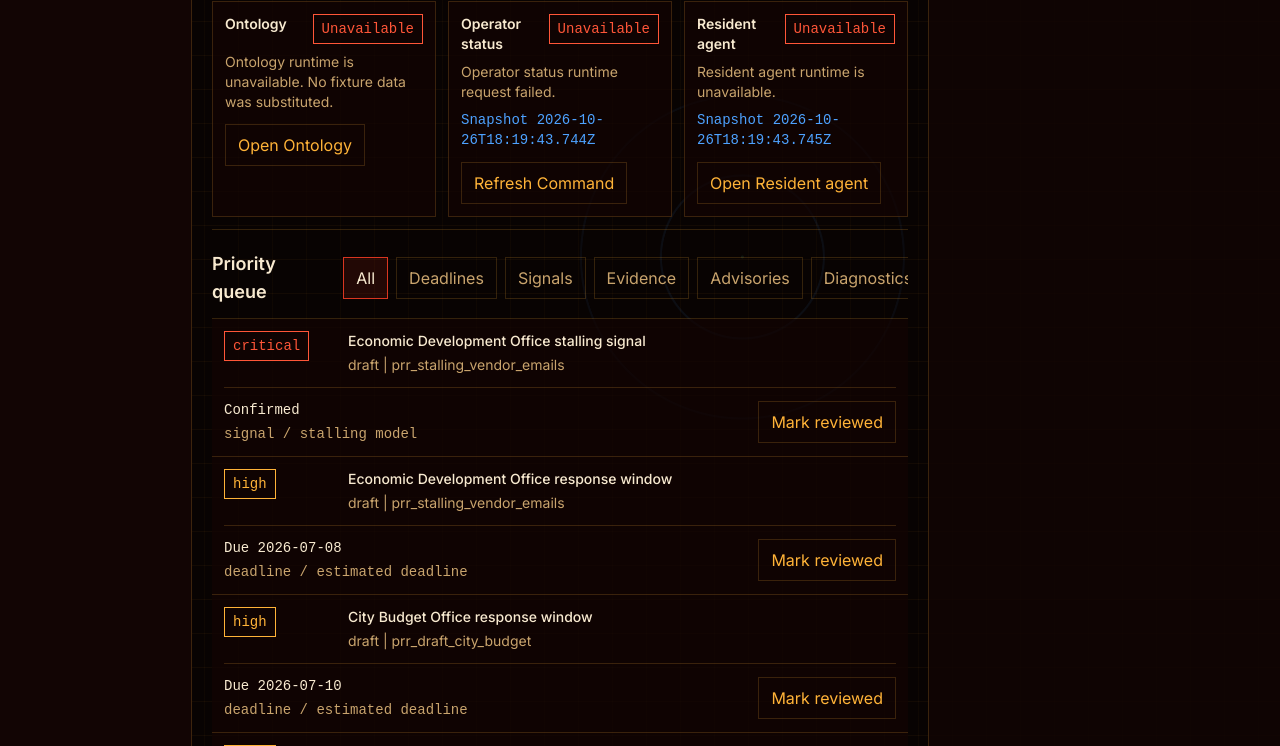
Test: right context rail › switches to selected runtime item detail and can return to the brief
The width and height of the screenshot is (1280, 746).
(page scrolled)
Click the button with aria-label "Select Economic Development Office stalling signal" at (497, 340), box [348, 331, 896, 375]
(page scrolled)
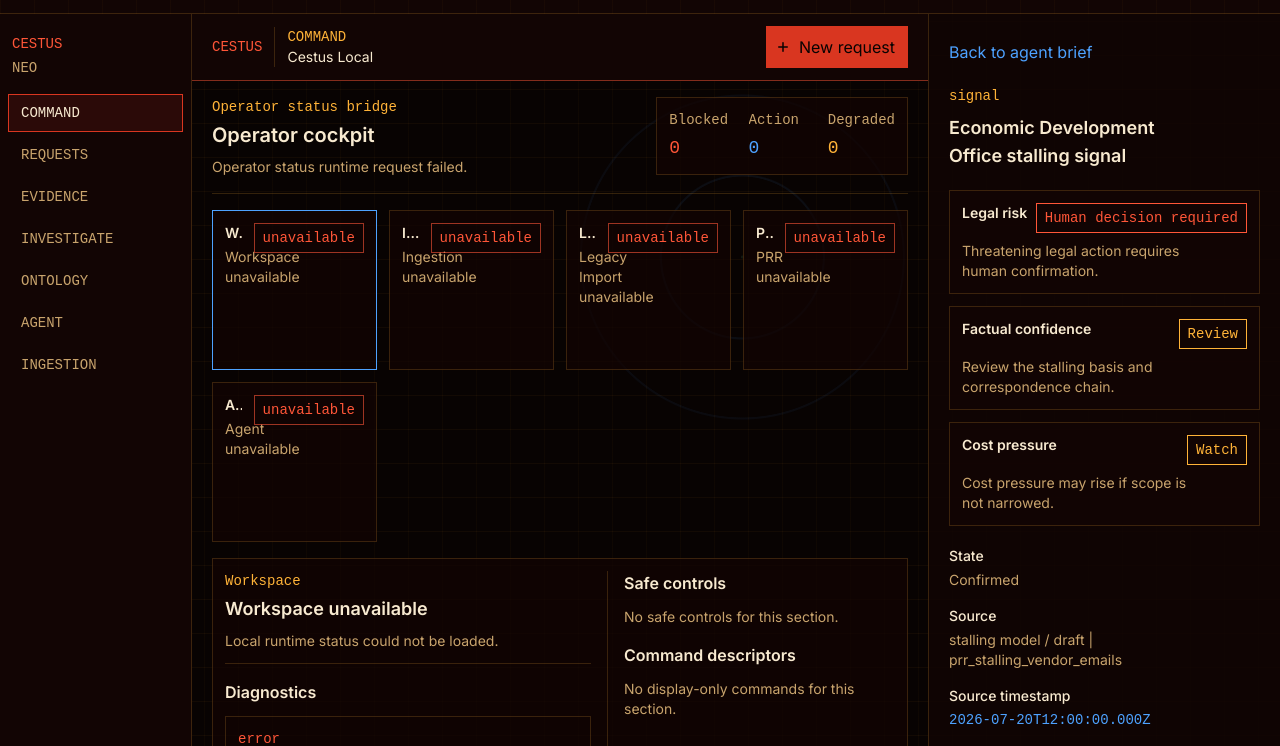
Check: the heading "Economic Development Office stalling signal" is shown, box [949, 117, 1155, 166]
Check: the text "Human decision required" is shown, box [1036, 203, 1247, 233]
Click the button "Back to agent brief" at (1021, 52), box [949, 34, 1092, 70]
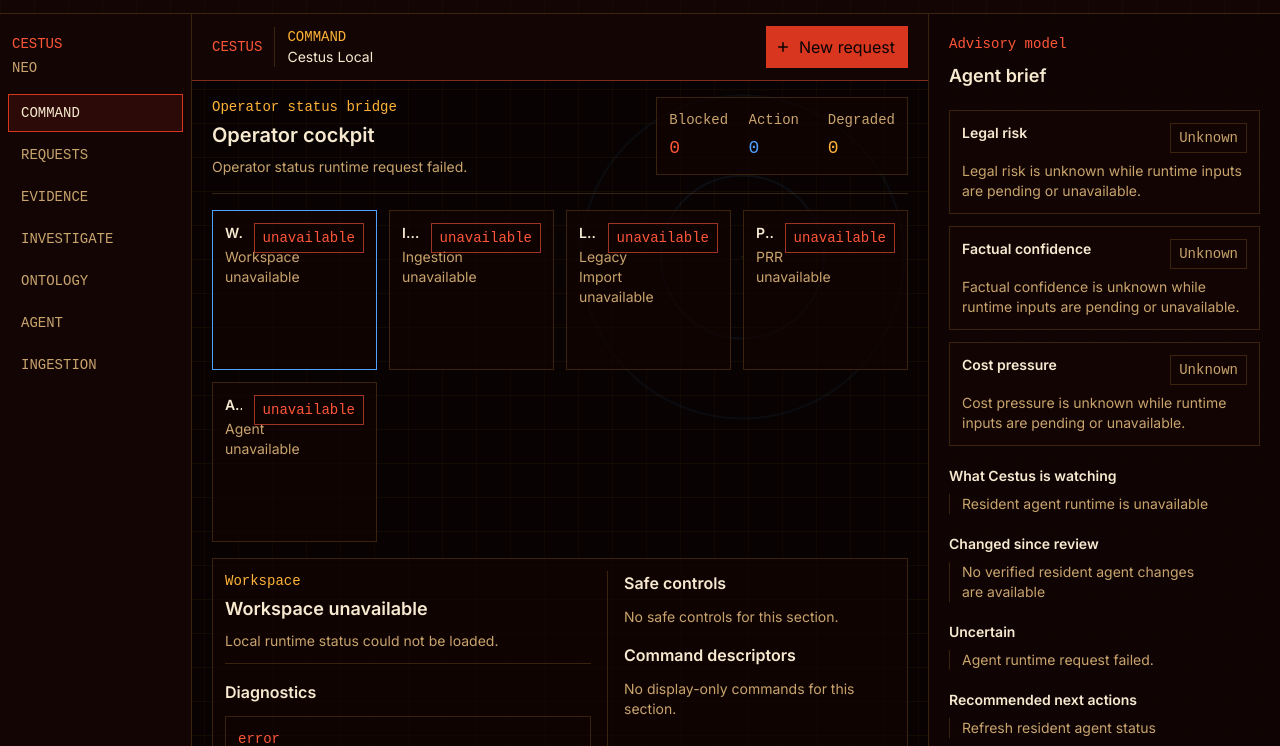
Check: the heading "Agent brief" is shown, box [949, 65, 1046, 86]
